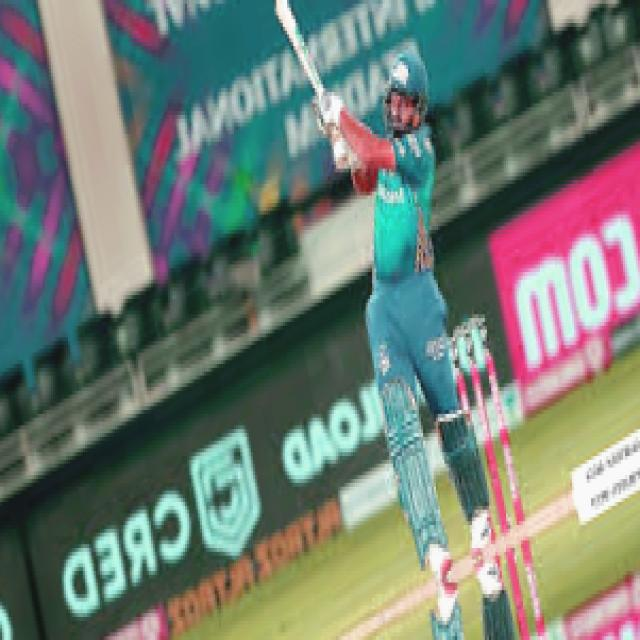toe: (274, 0, 294, 31)
